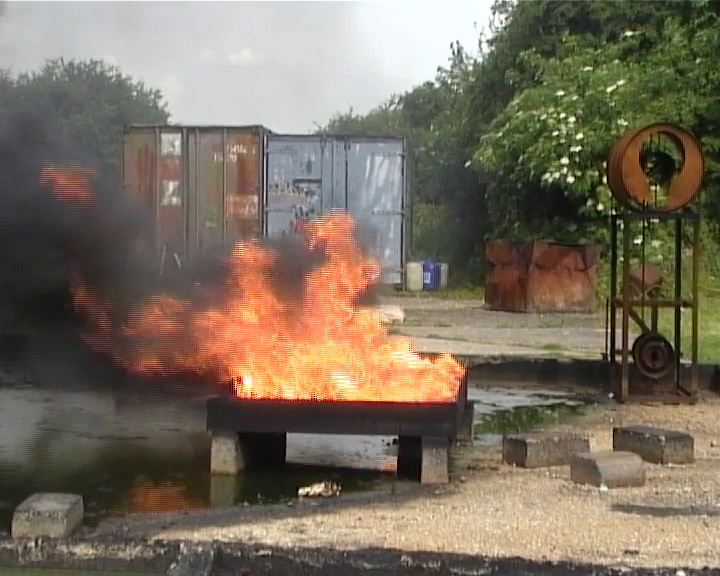fire: (193, 214, 459, 400)
